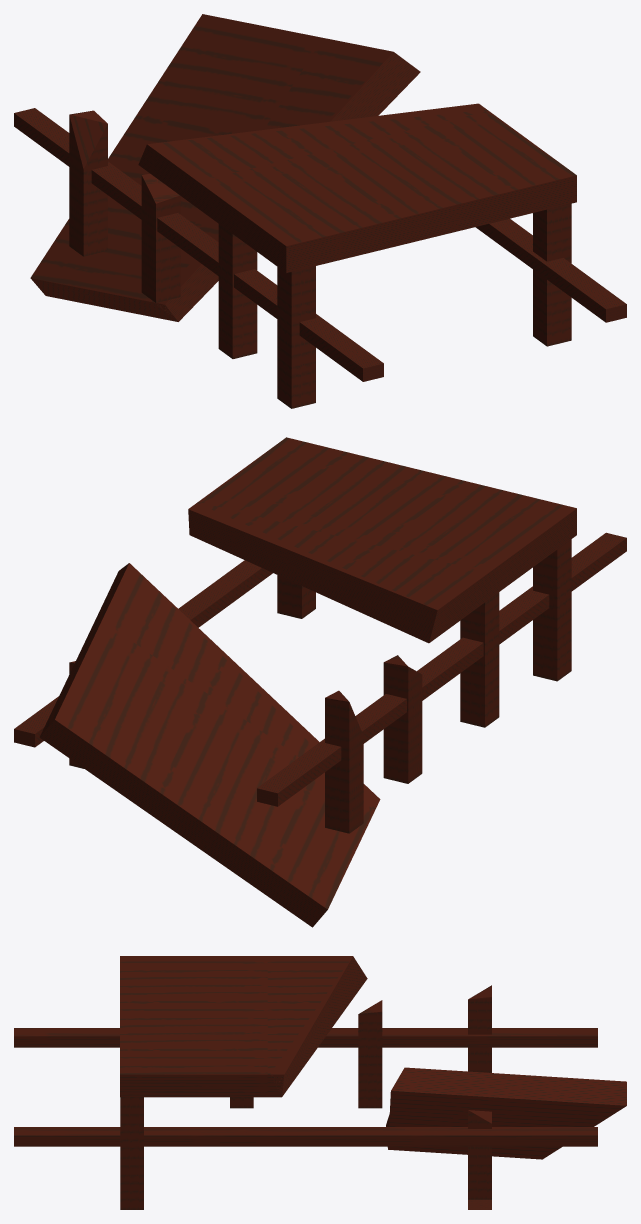
Rendered from BridgeBroken.fbx.
The picture shows the model from 3 angles, top to bottom: view 1: azimuth 30°, elevation 25°; view 2: azimuth 150°, elevation 25°; view 3: azimuth 270°, elevation 25°; orthographic projection. The views are drawn at different scales.
Parts seen in each view (by area): view 1: Cube.006, Cube.007, Cube.008; view 2: Cube.006, Cube.007, Cube.008; view 3: Cube.006, Cube.008, Cube.007.
Boxes of the visible parts, left/top/right/bottom form: Cube.006: left=30, top=14, right=576, bottom=321; Cube.007: left=69, top=110, right=571, bottom=408; Cube.008: left=14, top=108, right=626, bottom=381; Cube.006: left=39, top=437, right=576, bottom=927; Cube.007: left=69, top=539, right=571, bottom=833; Cube.008: left=14, top=532, right=626, bottom=806; Cube.006: left=120, top=956, right=626, bottom=1159; Cube.008: left=14, top=1028, right=597, bottom=1146; Cube.007: left=120, top=985, right=491, bottom=1209.
Size of the model in its own units: 9.03 by 6.9 by 19.12.
